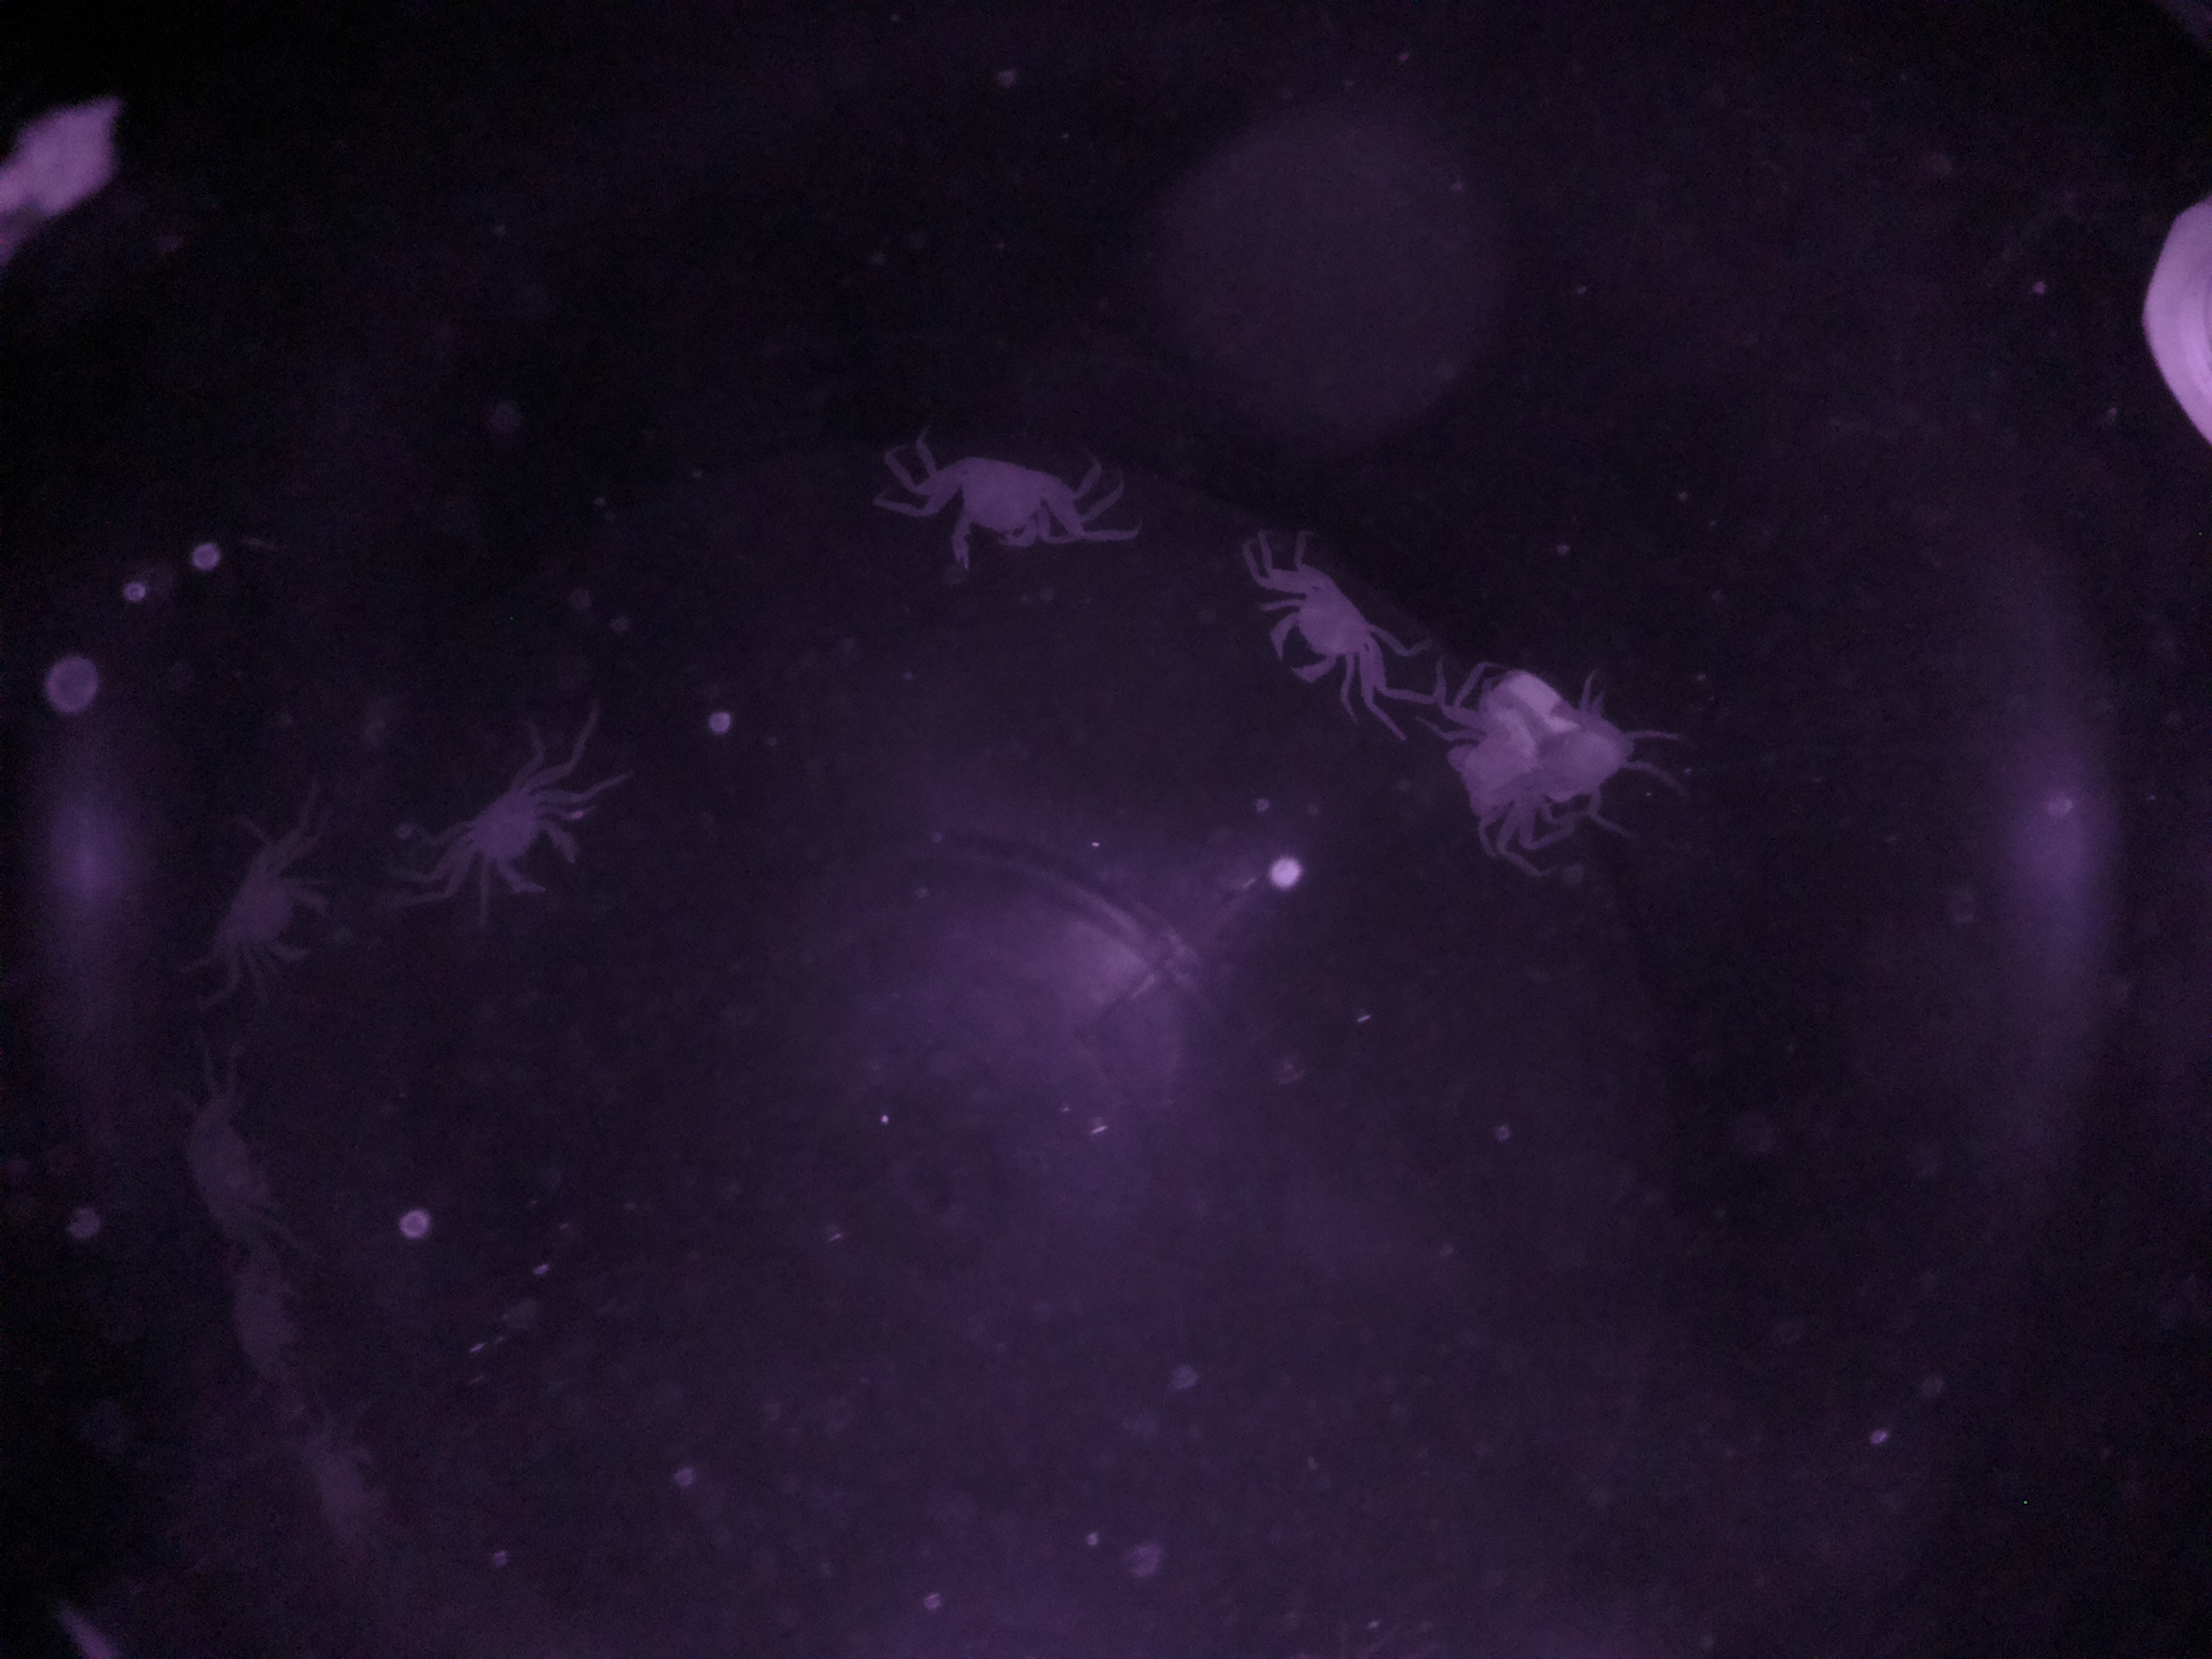Crab: (878, 415, 1129, 589), (423, 732, 603, 924), (190, 809, 359, 1011), (1242, 554, 1416, 702)
